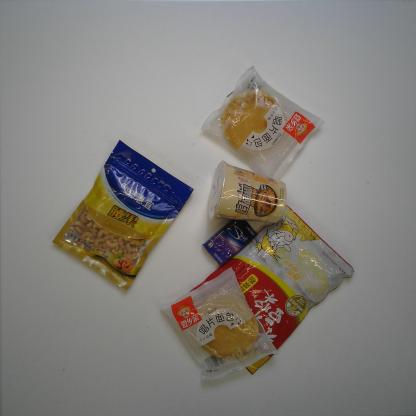Dessert: (200, 66, 323, 180), (159, 266, 279, 380)
Dried Fruit: (52, 140, 194, 291)
Gum: (202, 217, 259, 267)
Instant Drink: (188, 204, 356, 375)
Instant Noodles: (207, 159, 288, 225)
